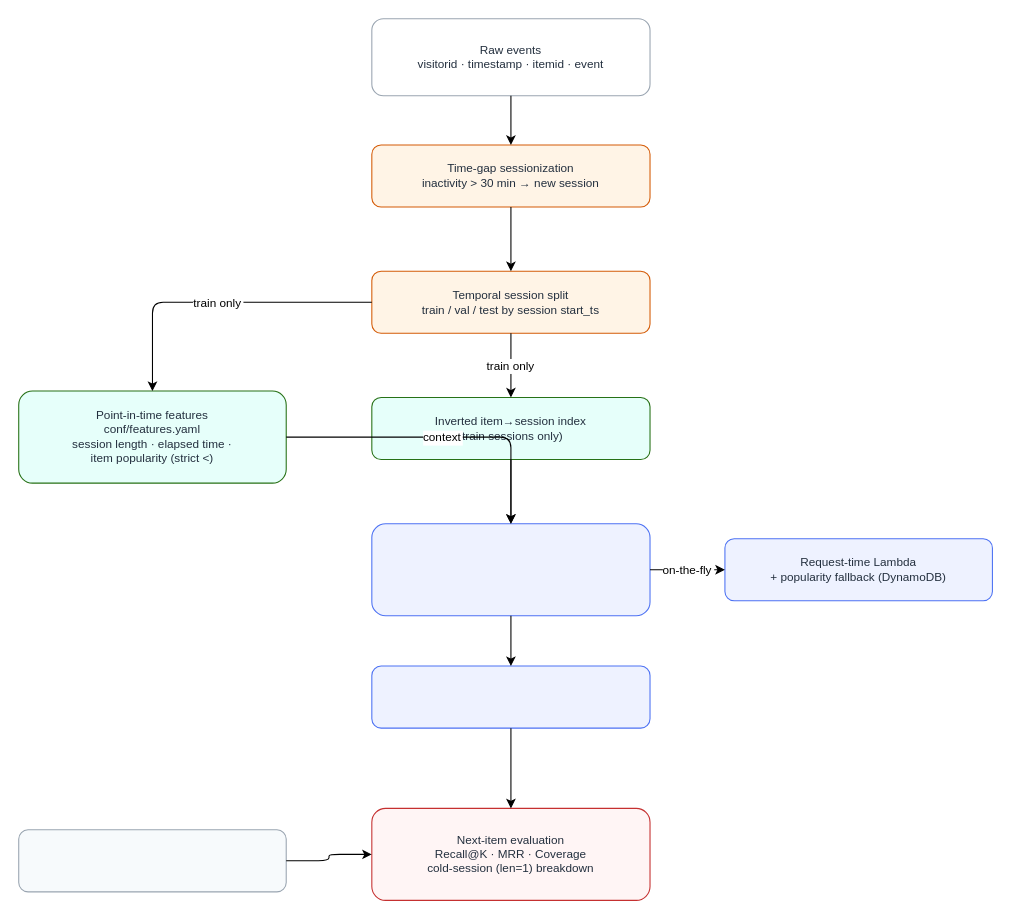
The diagram is 1011 pixels wide and 919 high, and some of its shapes have lost their labels. Here are the shapes that lost their labels. From the top down, the box of each, then its label:
(371, 523, 650, 616): Session-kNN sim(S,N)=|S∩N|/√(|S||N|) w(N)=e^(−λΔt)
(371, 665, 650, 728): Neighbour-vote scoring s(i,S)=Σ sim·w·1[i∈N]
(18, 829, 286, 892): Baselines Popularity · Random
